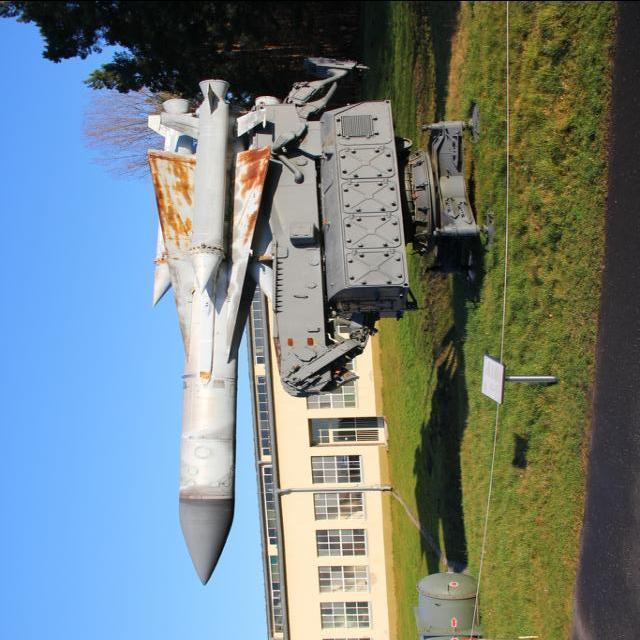missile: (139, 80, 277, 584)
